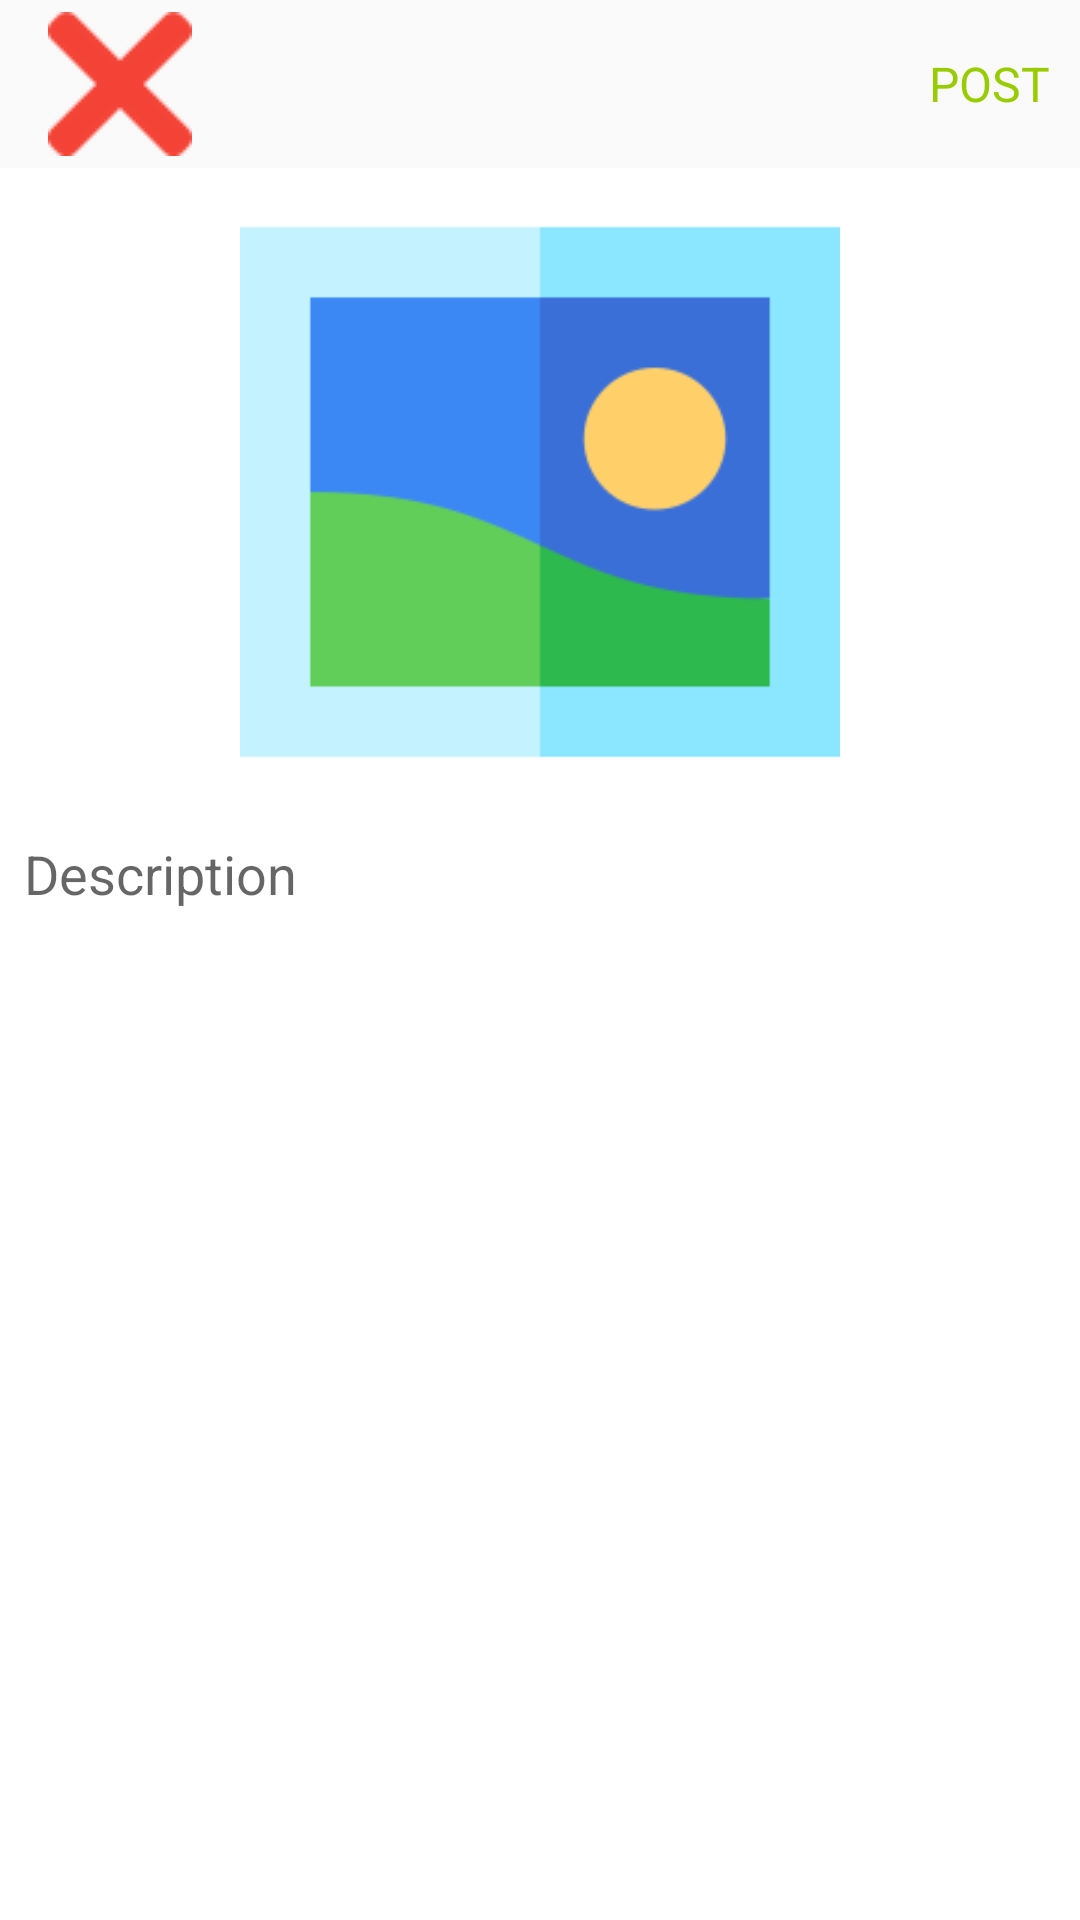

Locate icon controls on the screen. Image size 1080w x 1920h, boxes as (x1,y1,x2,y2).
close: (48,12,192,156)
